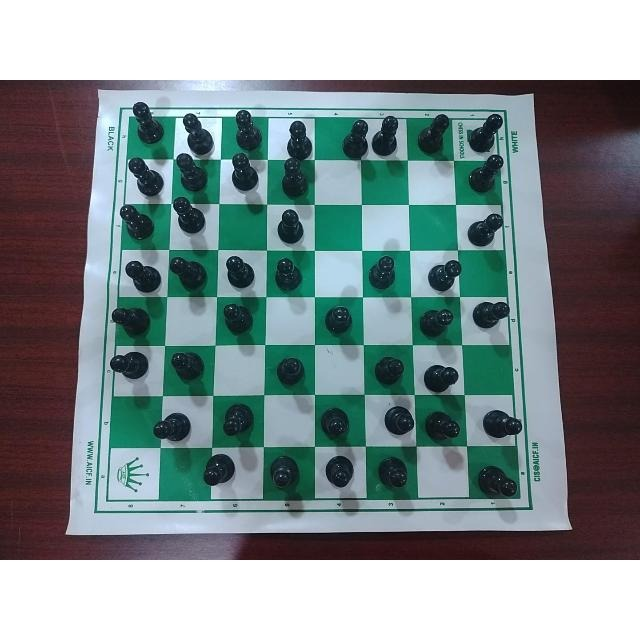black-pawn: (474, 458, 519, 502), (172, 152, 212, 196), (264, 452, 304, 495), (126, 154, 165, 198), (115, 203, 157, 243), (109, 302, 155, 338), (465, 113, 504, 155), (122, 256, 164, 295), (127, 103, 165, 146), (169, 198, 209, 238), (199, 451, 239, 491), (223, 153, 261, 195), (167, 255, 209, 293), (219, 400, 257, 442), (180, 111, 216, 155), (469, 300, 513, 336), (424, 255, 462, 296), (375, 452, 413, 493), (152, 410, 196, 445), (221, 252, 260, 291), (465, 210, 505, 248), (168, 348, 208, 386), (476, 407, 523, 439), (228, 109, 264, 150), (416, 113, 452, 154), (107, 349, 151, 382), (464, 155, 504, 191), (270, 208, 310, 244), (420, 360, 460, 396), (319, 454, 355, 494), (334, 118, 368, 160), (364, 254, 399, 294), (422, 407, 462, 442), (276, 157, 310, 198), (281, 118, 315, 157), (371, 114, 401, 158), (219, 300, 255, 336), (420, 304, 456, 340), (380, 406, 416, 442), (319, 403, 351, 442), (320, 301, 354, 337), (369, 353, 405, 387), (270, 354, 306, 386), (272, 256, 303, 292)
